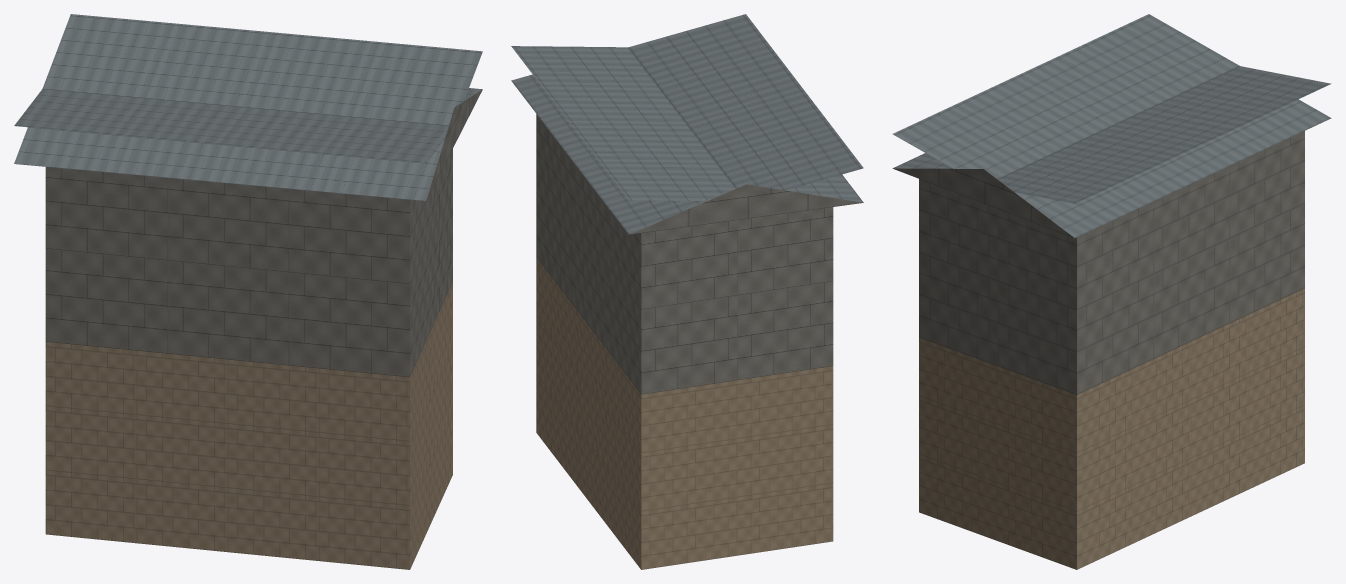
The model's file is bld_c2_17_468.gltf.
3 renders of one model, left to right at view 1: azimuth 30°, elevation 25°; view 2: azimuth 150°, elevation 25°; view 3: azimuth 270°, elevation 25°, orthographic. The views are drawn at different scales.
Visible parts, largest first — view 1: bld_c2_17_468; view 2: bld_c2_17_468; view 3: bld_c2_17_468.
Part boxes in pixels (bbox=[...]): bld_c2_17_468: bbox=[14, 14, 482, 569]; bld_c2_17_468: bbox=[511, 14, 863, 569]; bld_c2_17_468: bbox=[892, 14, 1331, 569].
Size of the model in its own units: 11.82 by 11 by 11.56.
Materials: 4 (4 with a texture image).
